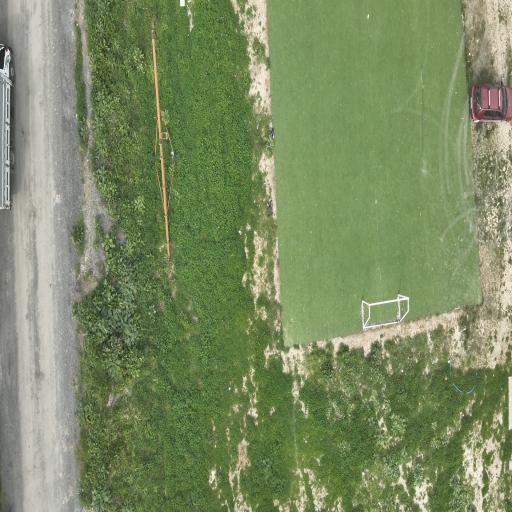car: (471, 85, 511, 122)
truck: (0, 45, 14, 209)
